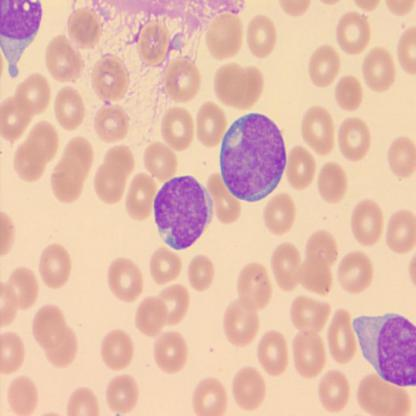Blast: (217, 111, 289, 205), (151, 172, 215, 252)
